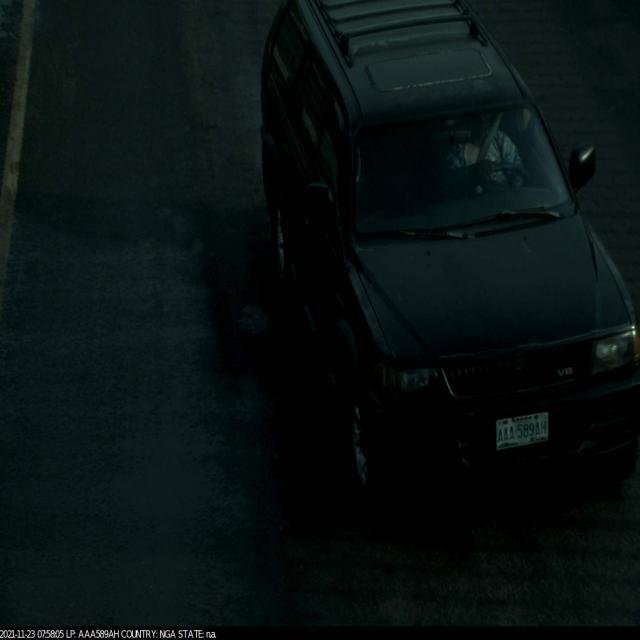windshield: (346, 80, 579, 254)
